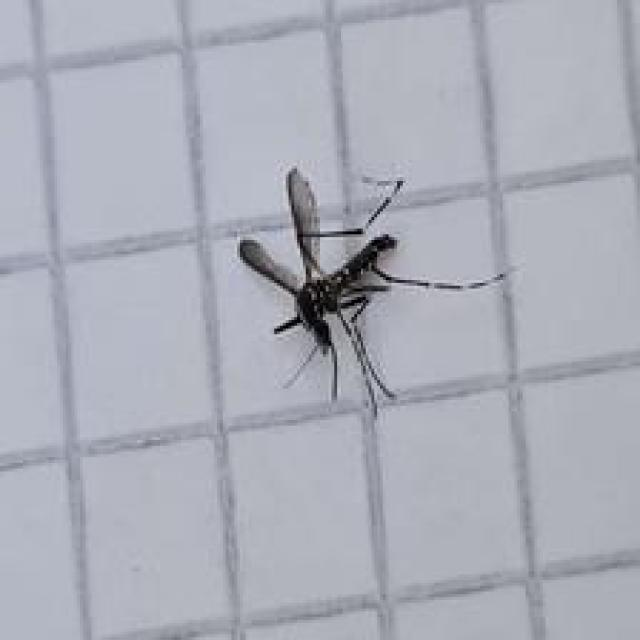Aedes albopictus: (236, 166, 513, 411)
